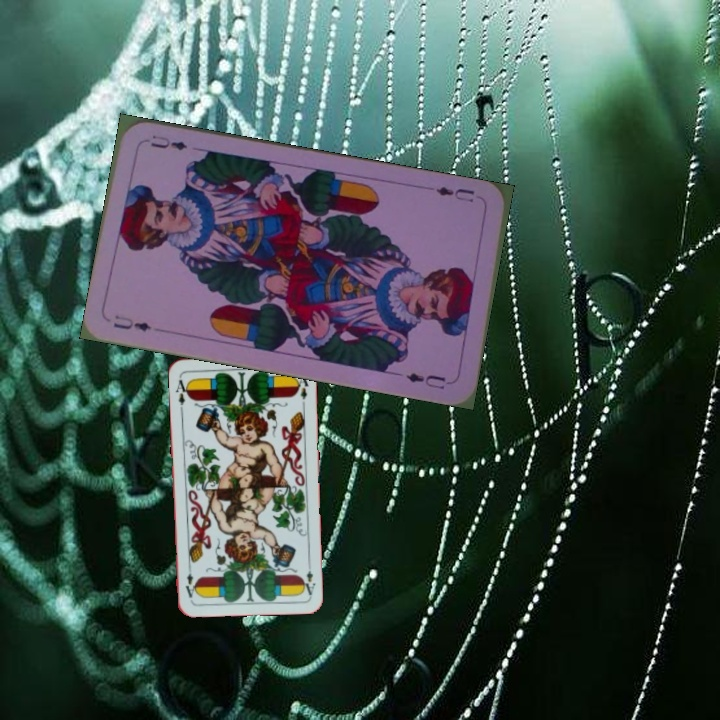EA: (298, 557, 318, 598), (172, 376, 192, 413)
EU: (431, 182, 485, 205), (109, 311, 154, 334)
